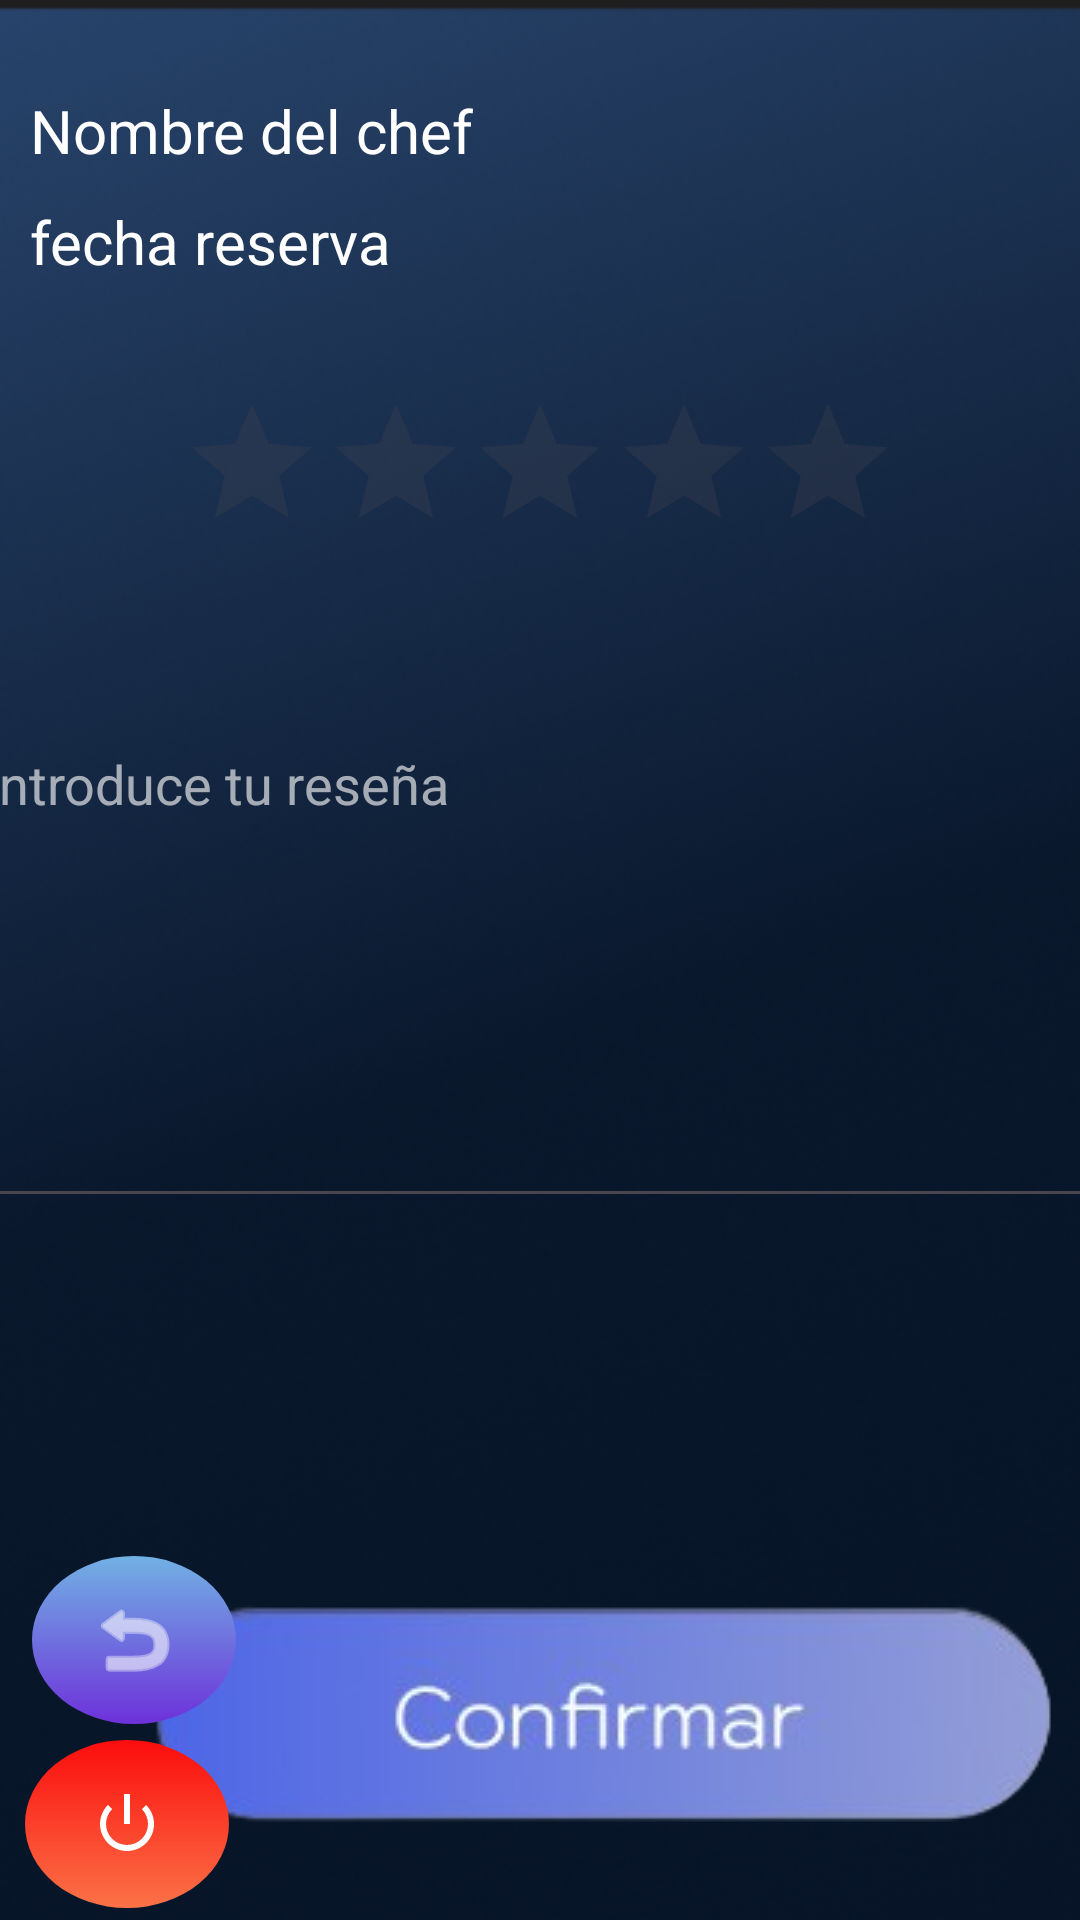

Point at icon controls on the screen. Image size 1080px×1920px, points as (x,y).
lock power off: (127,1824)
revert: (134,1640)
